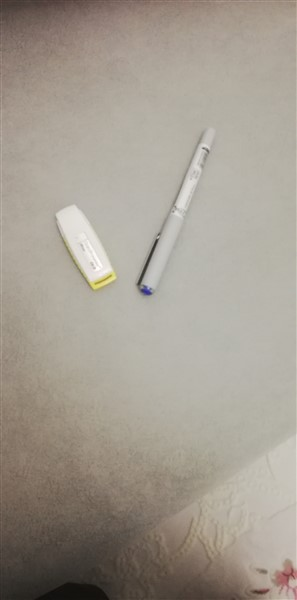flash disk: (48, 200, 119, 291)
pilot kalem: (133, 124, 224, 305)
